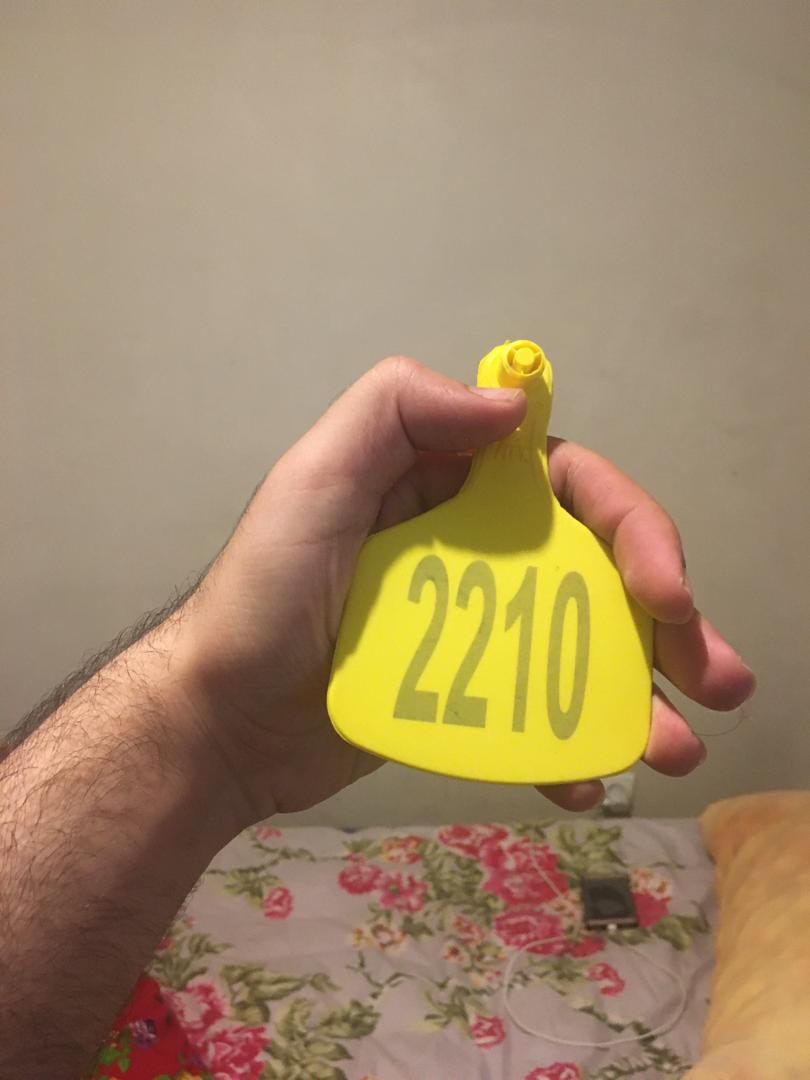digit: (396, 547, 591, 747)
